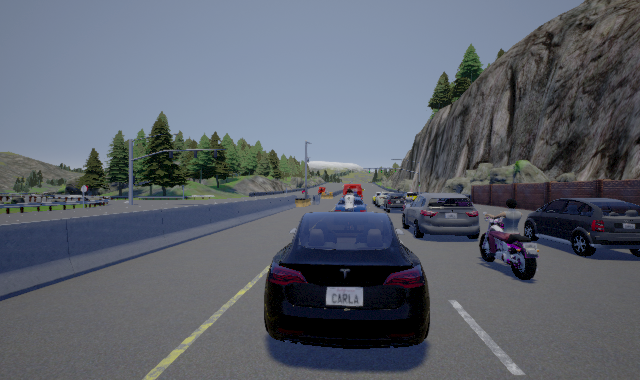bike: (342, 187, 356, 213)
motobike: (479, 198, 538, 282)
vehicle: (264, 184, 430, 349), (523, 195, 640, 259), (401, 191, 481, 240)
